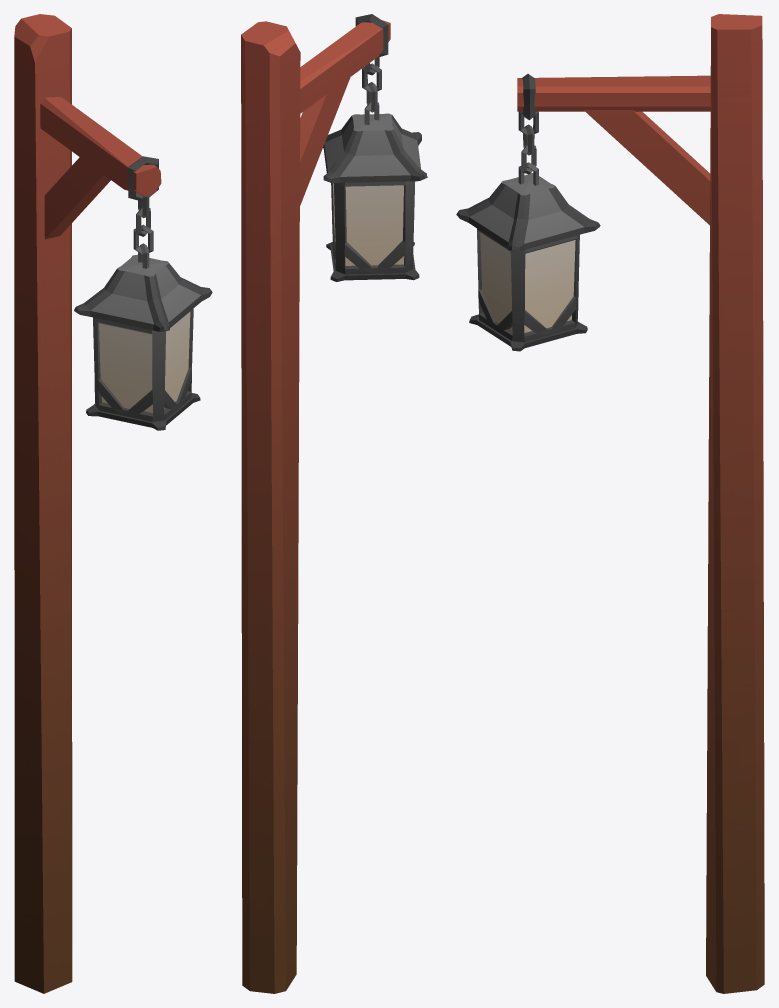
Rendered from Lantern_Metal.fbx.
3 views of the same model, side by side, from view 1: azimuth 30°, elevation 25°; view 2: azimuth 150°, elevation 25°; view 3: azimuth 270°, elevation 25° (orthographic).
Visible parts, largest first — view 1: Lantern_Metal; view 2: Lantern_Metal; view 3: Lantern_Metal.
Part boxes in pixels (left/top/right/bottom): Lantern_Metal: left=14, top=14, right=212, bottom=993; Lantern_Metal: left=241, top=14, right=427, bottom=993; Lantern_Metal: left=456, top=14, right=764, bottom=993.
Size of the model in its own units: 0.567 by 4.17 by 1.21.
